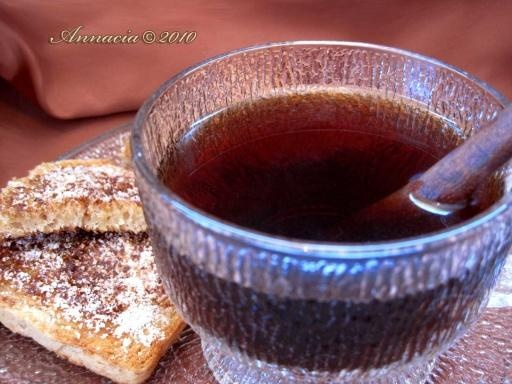background: (0, 95, 410, 230), (124, 53, 402, 145)
